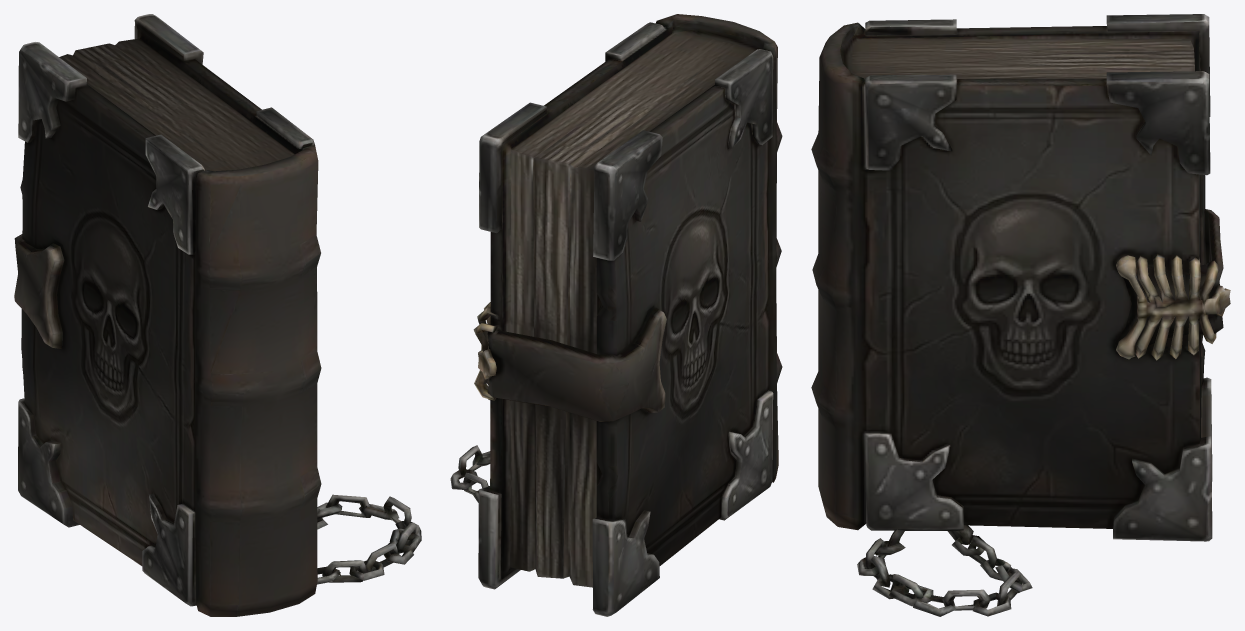
File: necro_wpn_grimoire.glb
3 views of the same model, side by side, from view 1: azimuth 30°, elevation 25°; view 2: azimuth 150°, elevation 25°; view 3: azimuth 270°, elevation 25° (orthographic). The views are drawn at different scales.
Parts seen in each view (by area): view 1: tripo_node_f143e36b-87be-4495-b56a-00944f9ea359; view 2: tripo_node_f143e36b-87be-4495-b56a-00944f9ea359; view 3: tripo_node_f143e36b-87be-4495-b56a-00944f9ea359.
Boxes of the visible parts, <box> form: tripo_node_f143e36b-87be-4495-b56a-00944f9ea359: <box>14,14,421,616</box>; tripo_node_f143e36b-87be-4495-b56a-00944f9ea359: <box>450,14,782,616</box>; tripo_node_f143e36b-87be-4495-b56a-00944f9ea359: <box>811,14,1230,616</box>.
Bounding box in the file's own units: 0.6465 × 0.998 × 0.8066.
Materials: 1 (1 with a texture image).
